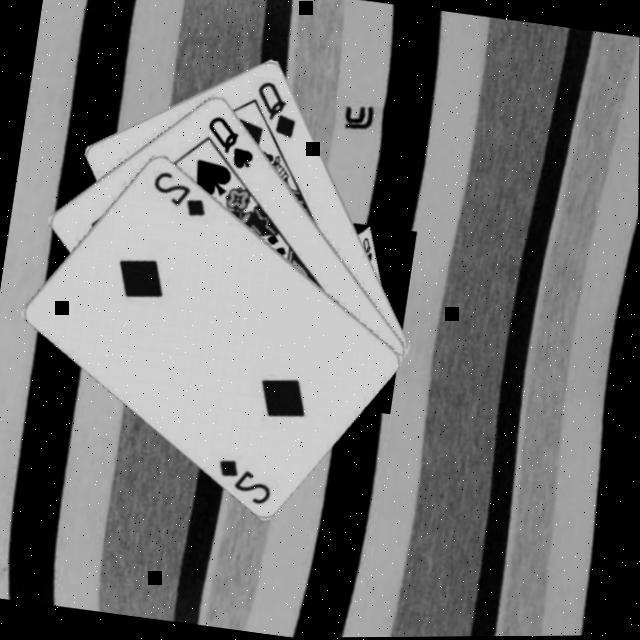2D: (212, 455, 280, 511), (147, 168, 215, 223)
QD: (248, 78, 306, 144)
QS: (200, 114, 262, 174)
